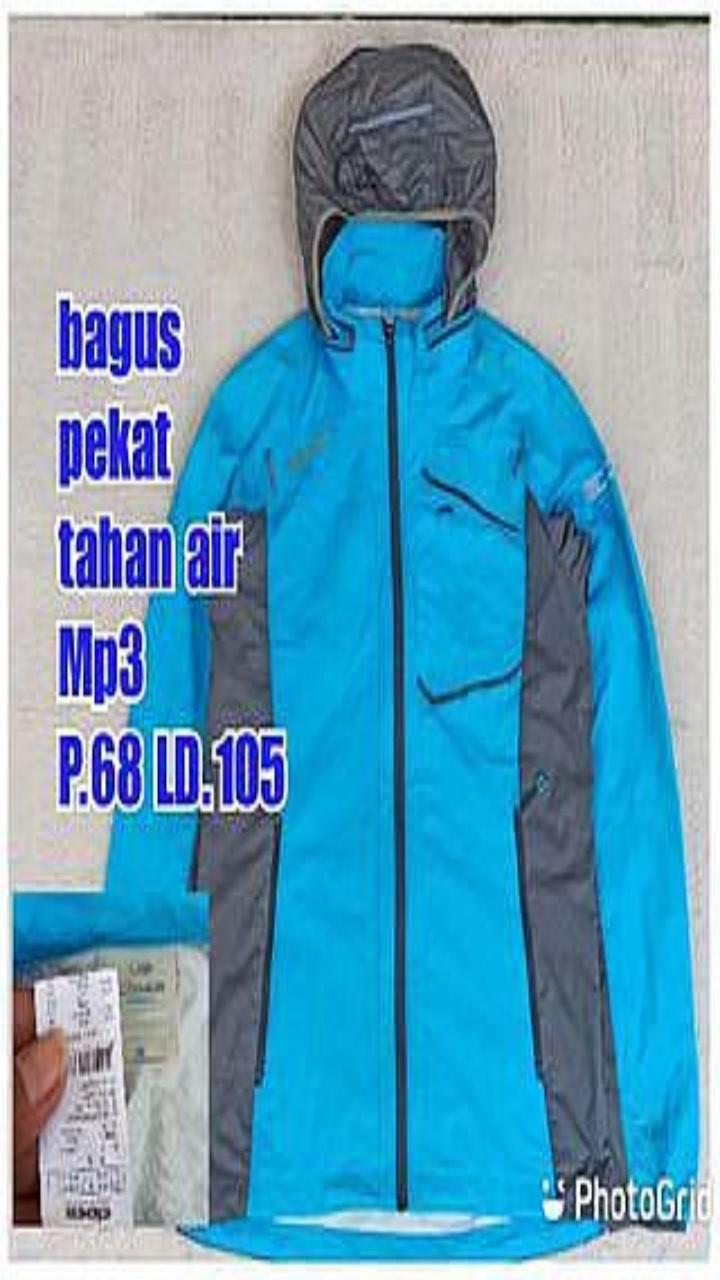Sports_Jacket: (108, 46, 696, 1257)
